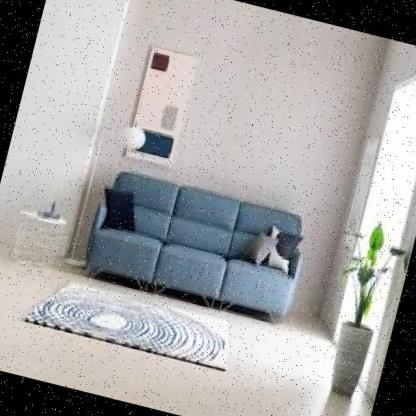Sofa: (70, 146, 326, 338)
